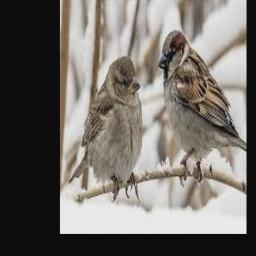Sparrow: (158, 29, 247, 187), (68, 55, 143, 204)
